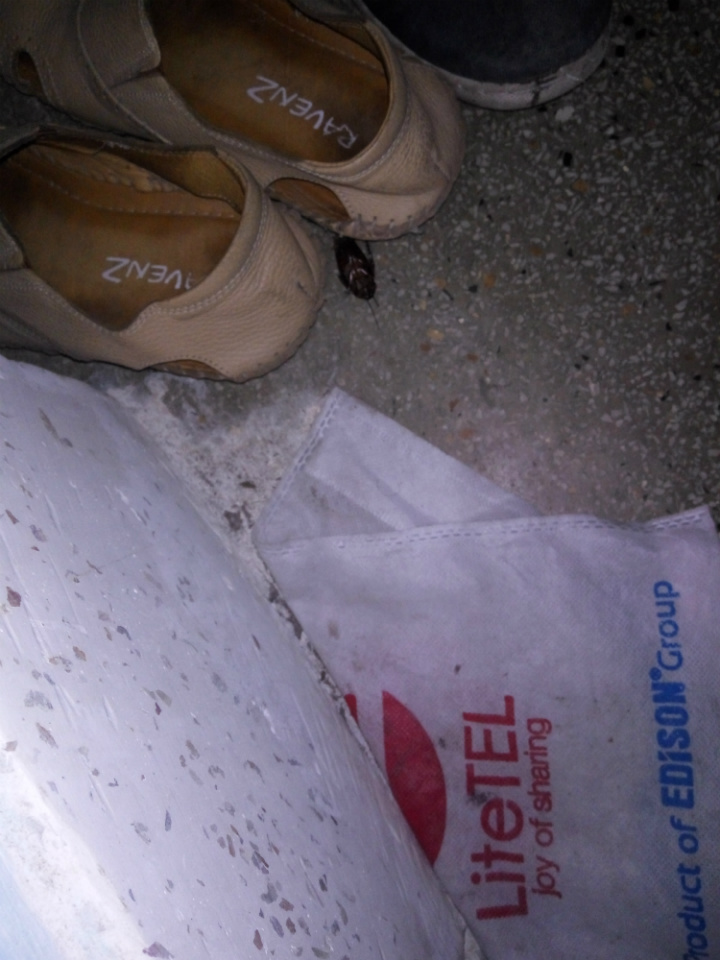cockroach: (278, 219, 407, 319)
